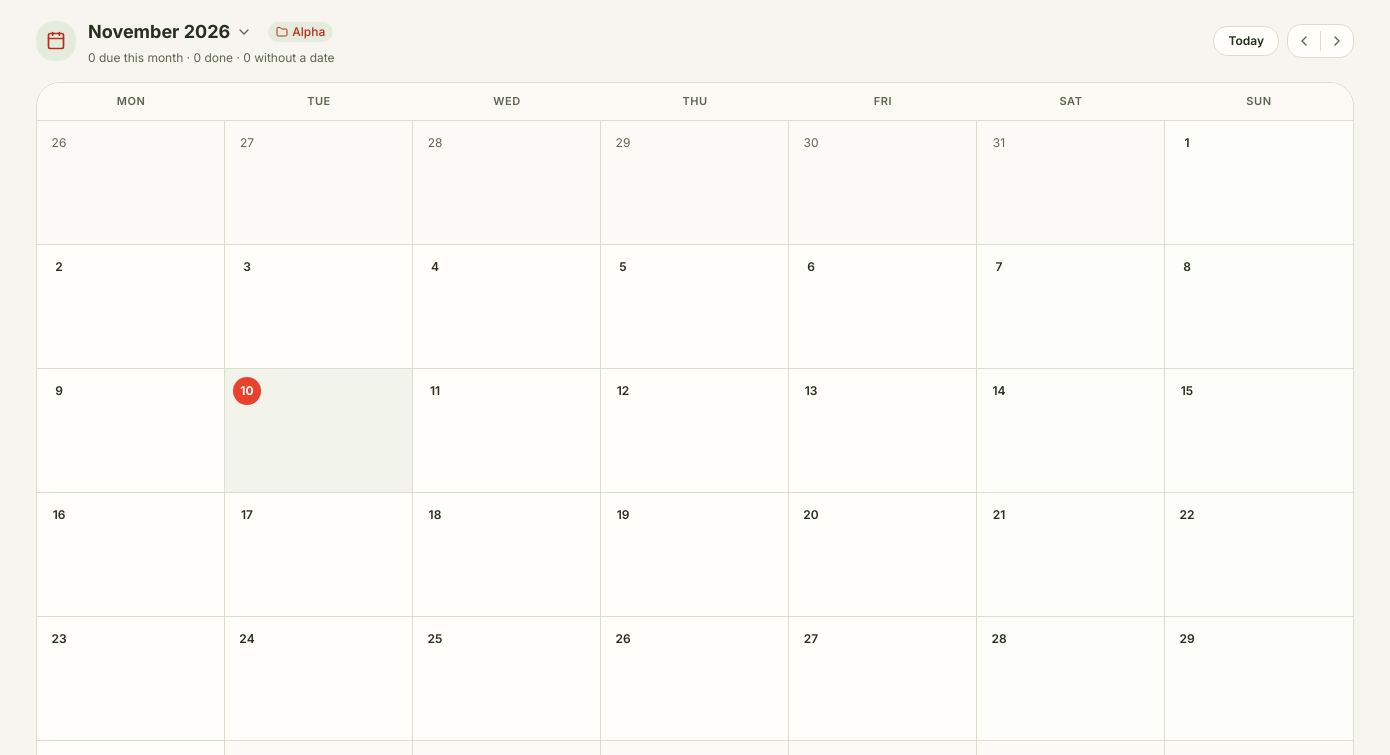
Test: CalendarView › header › moves a month back and forward and returns to today
Click the button named "Next month".
click(1337, 41)  # box [1321,25,1353,57]
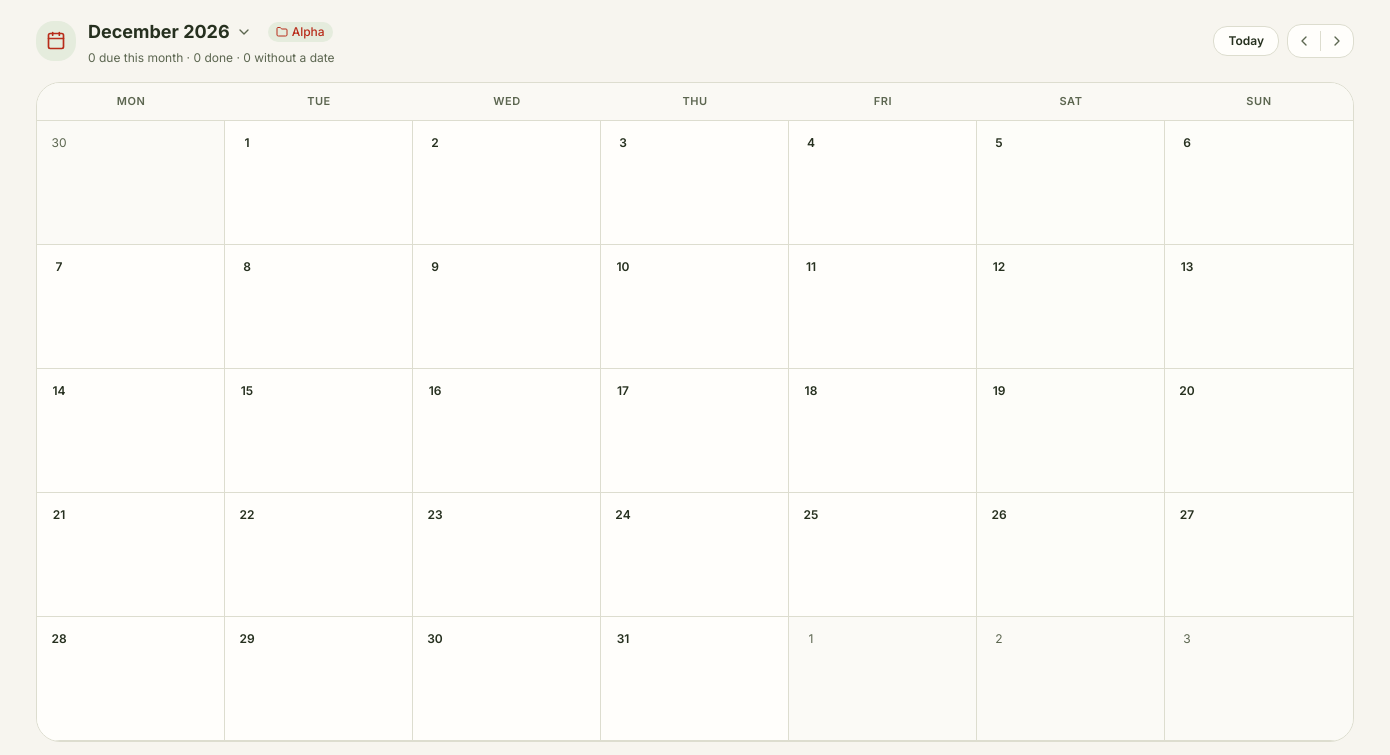
Expected: the button with test id "calendar-month-year" reads "December 2026", [80,16,260,48]
Click the button named "Previous month".
click(1304, 41)  # box [1288,25,1320,57]
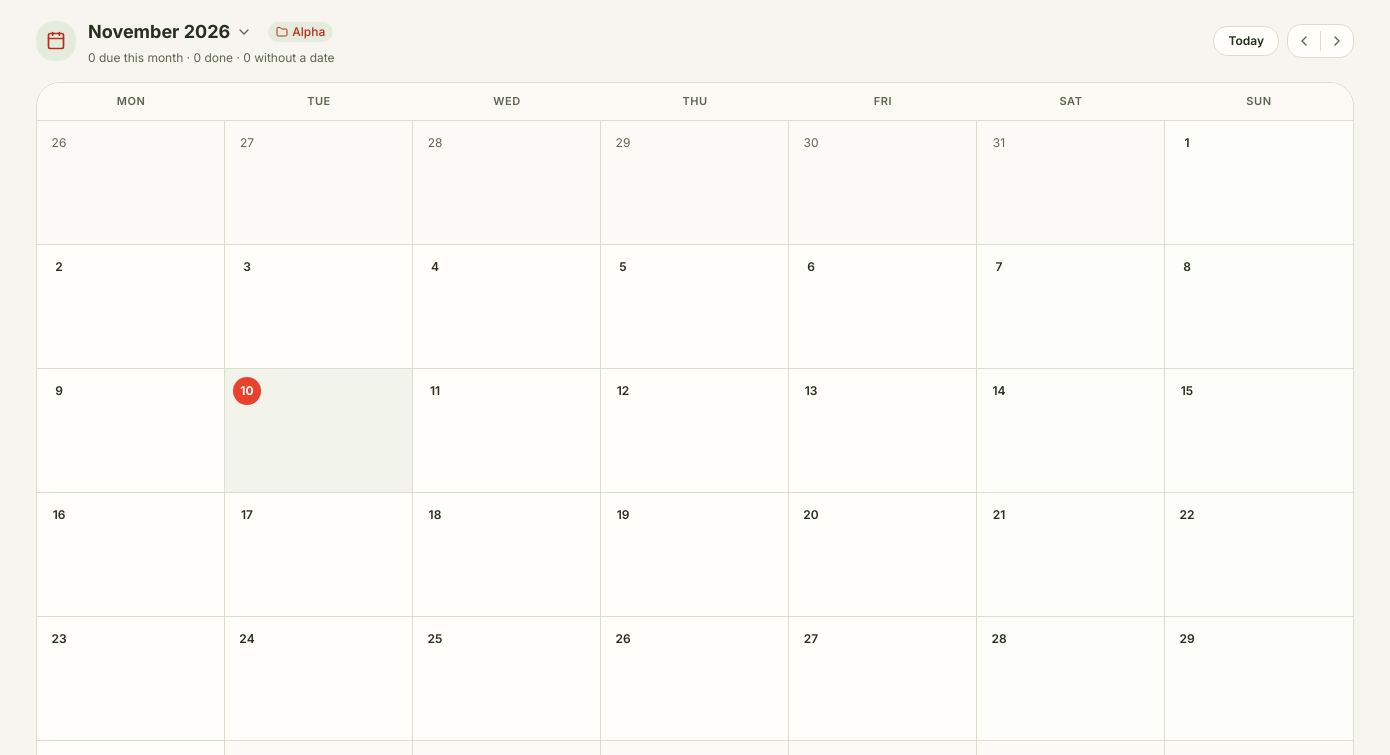
Click the button named "Previous month".
click(1304, 41)  # box [1288,25,1320,57]
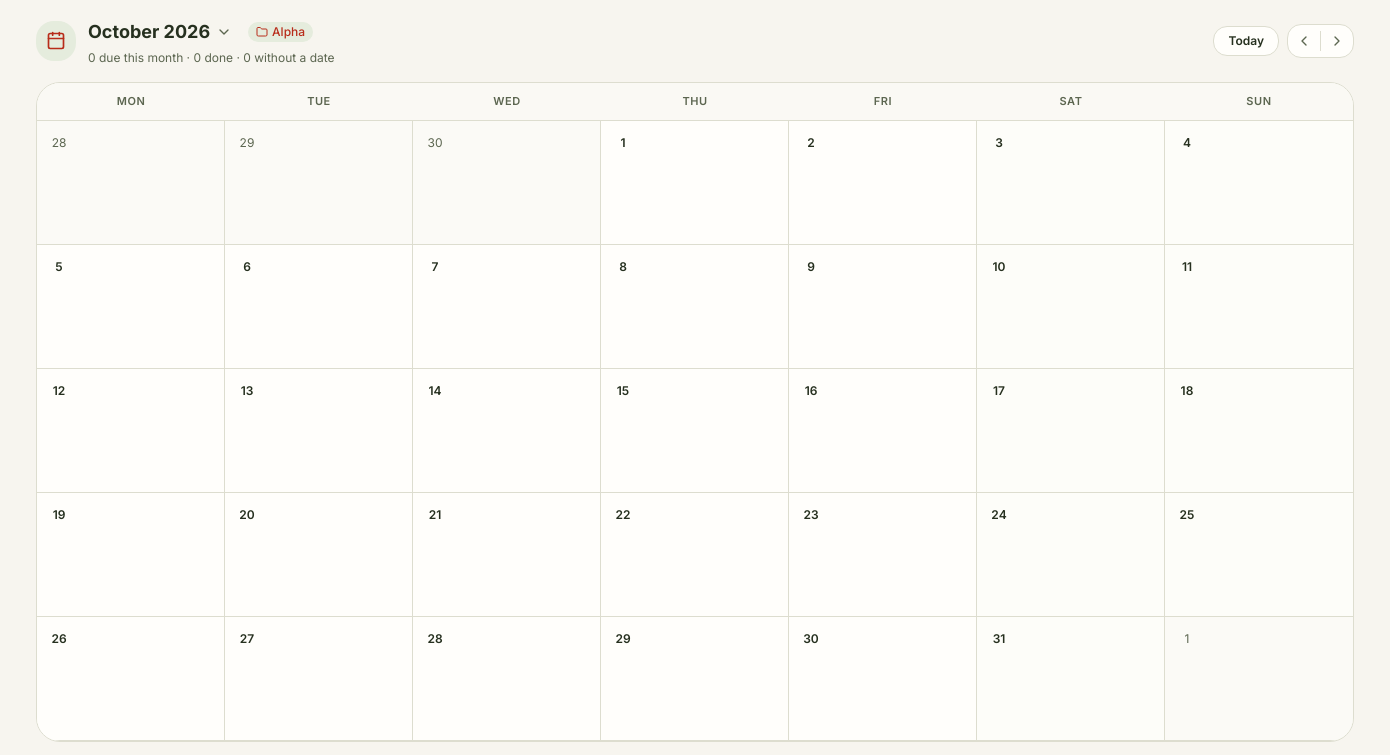
Expected: the button with test id "calendar-month-year" reads "October 2026", [80,16,240,48]
Click the button "Today".
click(1246, 41)  # box [1214,26,1279,56]
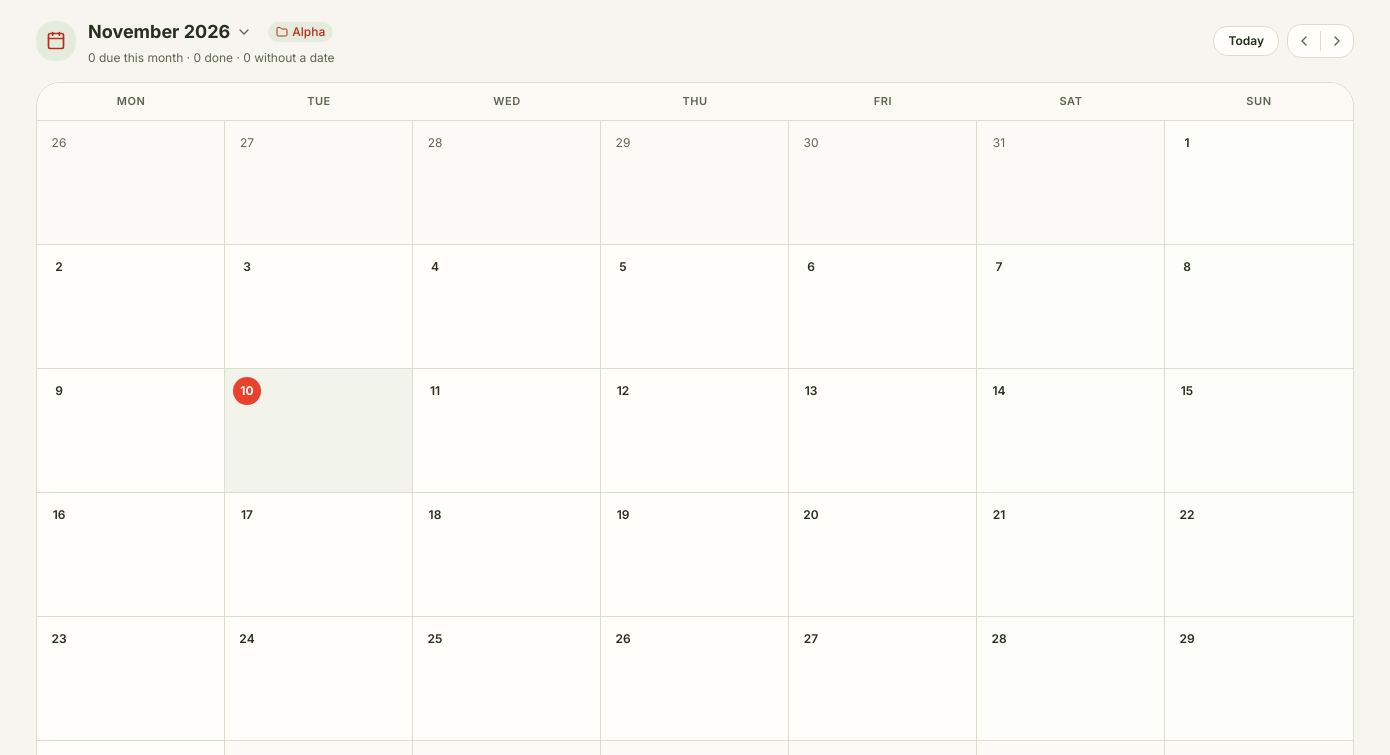
Expected: the button "November 2026" is shown, [80,16,260,48]
